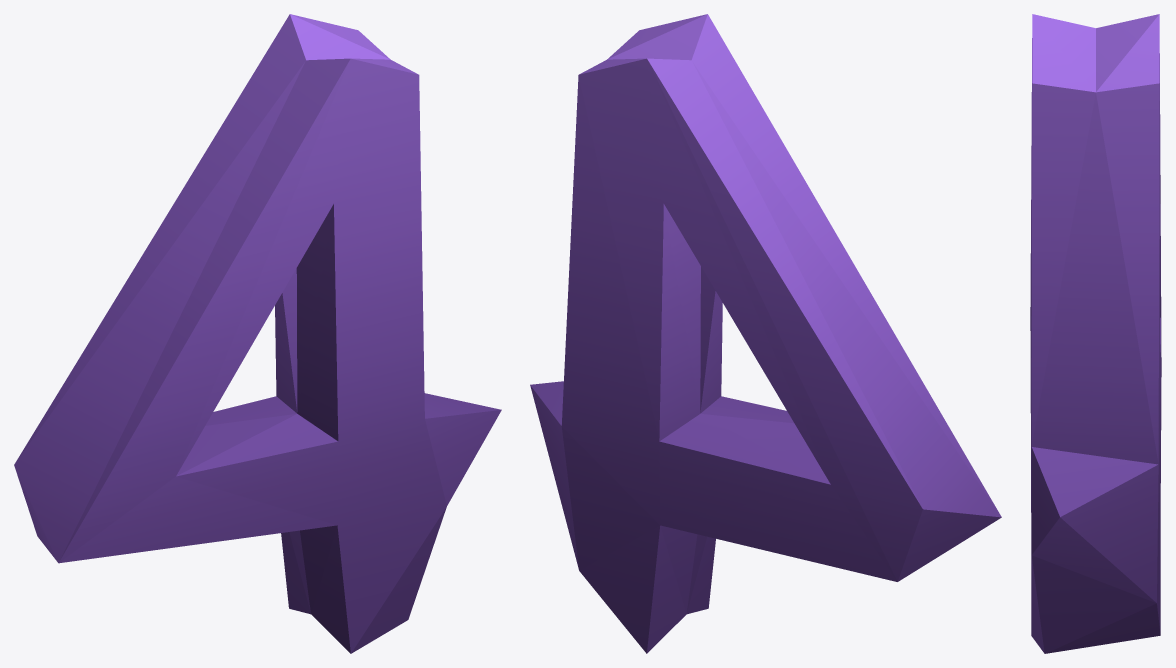
3 renders of one model, left to right at view 1: azimuth 30°, elevation 25°; view 2: azimuth 150°, elevation 25°; view 3: azimuth 270°, elevation 25°, orthographic. The views are drawn at different scales.
Visible parts, largest first — view 1: Four; view 2: Four; view 3: Four.
Boxes of the visible parts, left/top/right/bottom form: Four: left=14, top=14, right=501, bottom=653; Four: left=530, top=14, right=1001, bottom=653; Four: left=1030, top=14, right=1161, bottom=653.
Size of the model in its own units: 0.4075 by 0.5062 by 0.0967.
